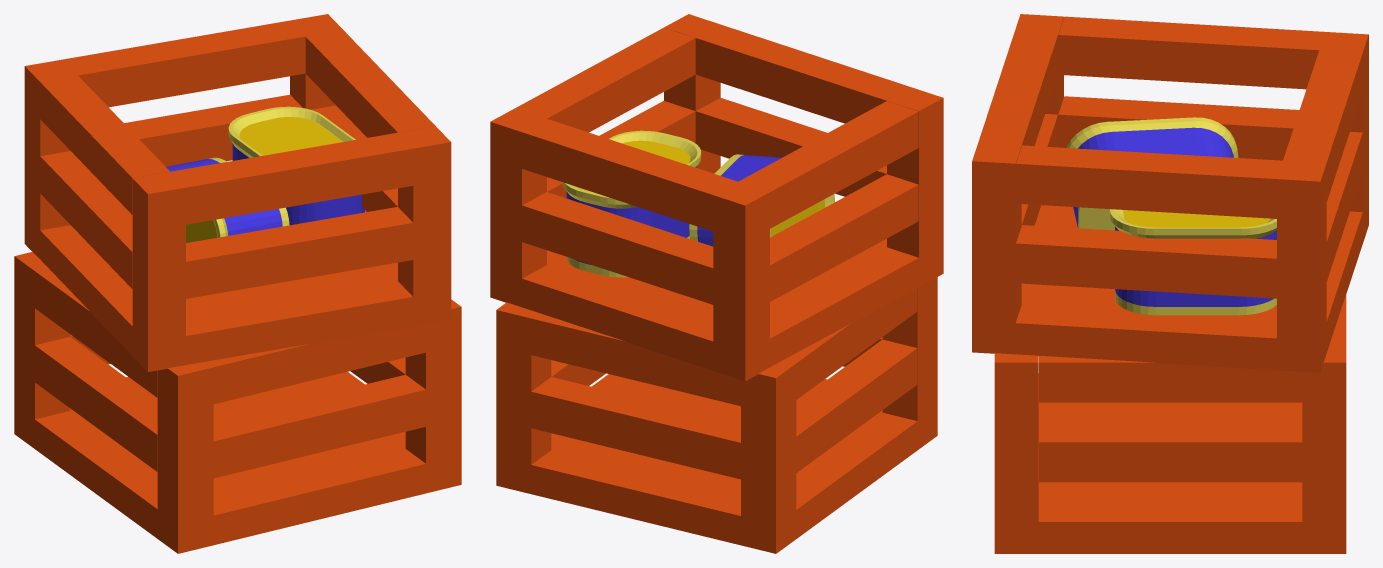
File: SpamProvider.fbx
3 renders of one model, left to right at view 1: azimuth 30°, elevation 25°; view 2: azimuth 150°, elevation 25°; view 3: azimuth 270°, elevation 25°, orthographic. The views are drawn at different scales.
Visible parts, largest first — view 1: Crate.001, Crate, Spam Can.001, Spam Can; view 2: Crate.001, Crate, Spam Can.001, Spam Can; view 3: Crate.001, Crate, Spam Can.001, Spam Can.
Boxes of the visible parts, box(x1,y1,x2,y2) form: Crate.001: box(24, 14, 451, 371); Crate: box(14, 251, 461, 553); Spam Can.001: box(228, 106, 364, 225); Spam Can: box(166, 157, 289, 242); Crate.001: box(490, 14, 943, 381); Crate: box(496, 277, 937, 553); Spam Can.001: box(562, 130, 701, 277); Spam Can: box(689, 154, 835, 246); Crate.001: box(972, 14, 1368, 372); Crate: box(994, 294, 1346, 553); Spam Can.001: box(1110, 209, 1276, 315); Spam Can: box(1066, 117, 1238, 230).
Bounding box in the file's own units: 76.77 × 81.54 × 76.77.
